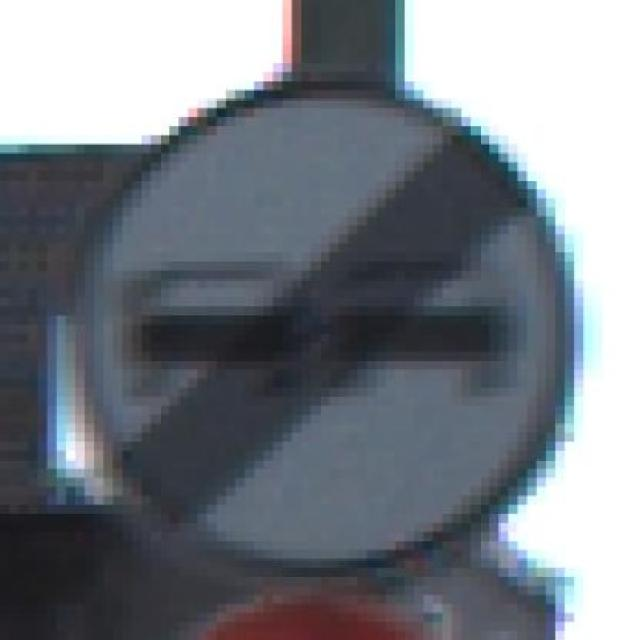No_Over_Taking: (66, 54, 583, 586)
